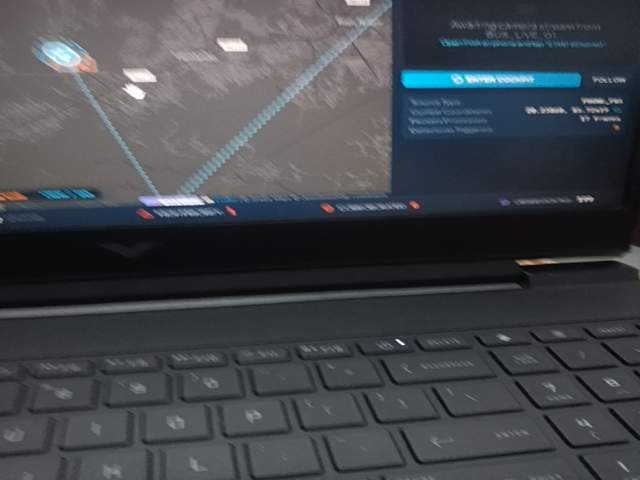pothole: (105, 298, 314, 451), (104, 403, 312, 480), (535, 403, 640, 480)
